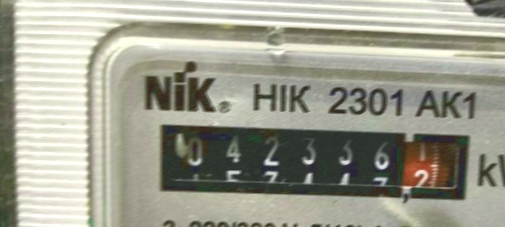0: (184, 136, 205, 170)
1: (415, 139, 428, 165)
2: (260, 135, 283, 170), (411, 170, 428, 192)
3: (297, 136, 317, 168), (336, 137, 355, 170)
4: (224, 134, 243, 167)
6: (371, 140, 392, 175)
screen: (145, 112, 483, 216)
